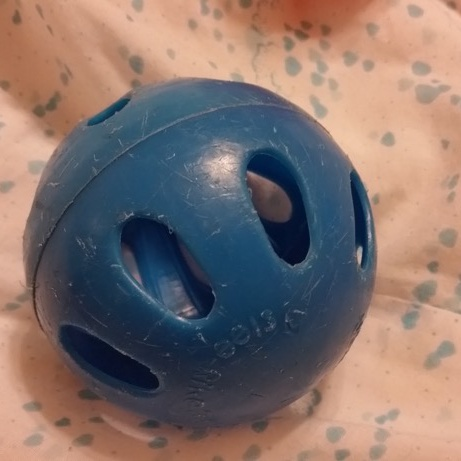blueball: (17, 71, 382, 436)
